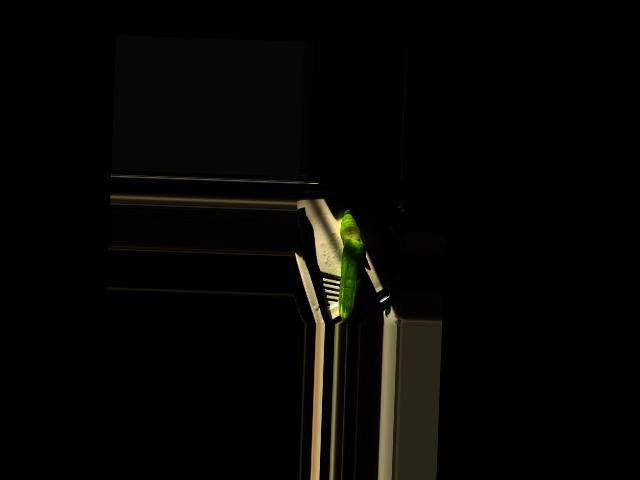cucumber: (337, 237, 366, 322)
